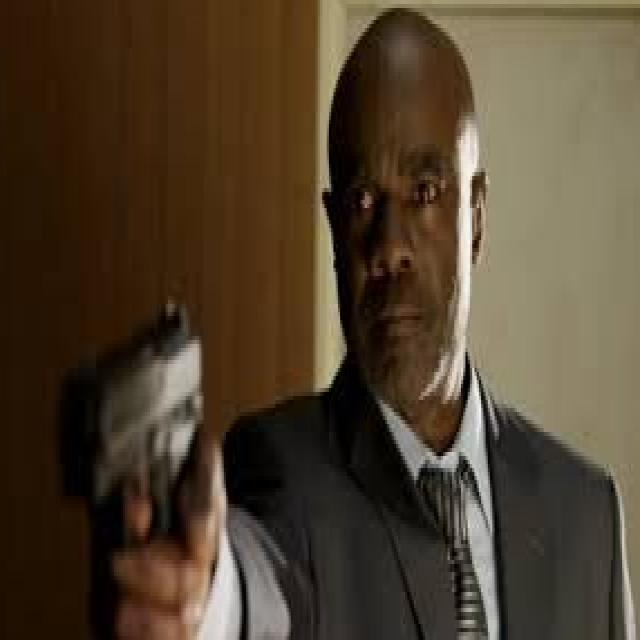gun: (39, 256, 211, 625)
